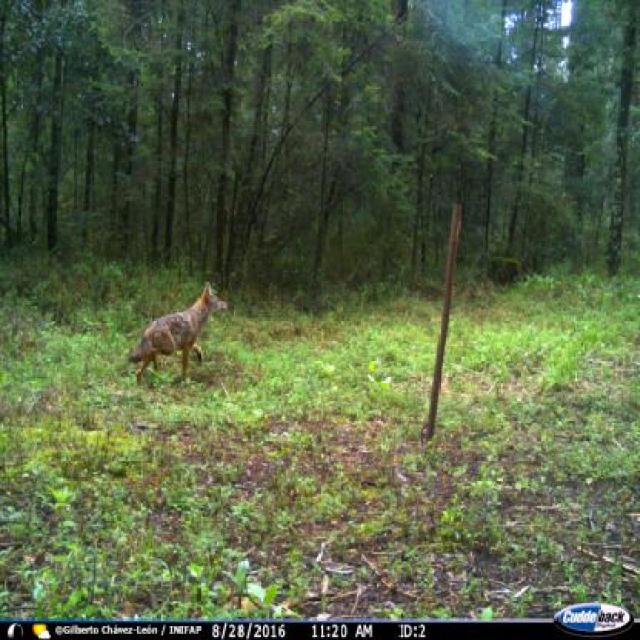Coyote: (127, 282, 228, 383)
